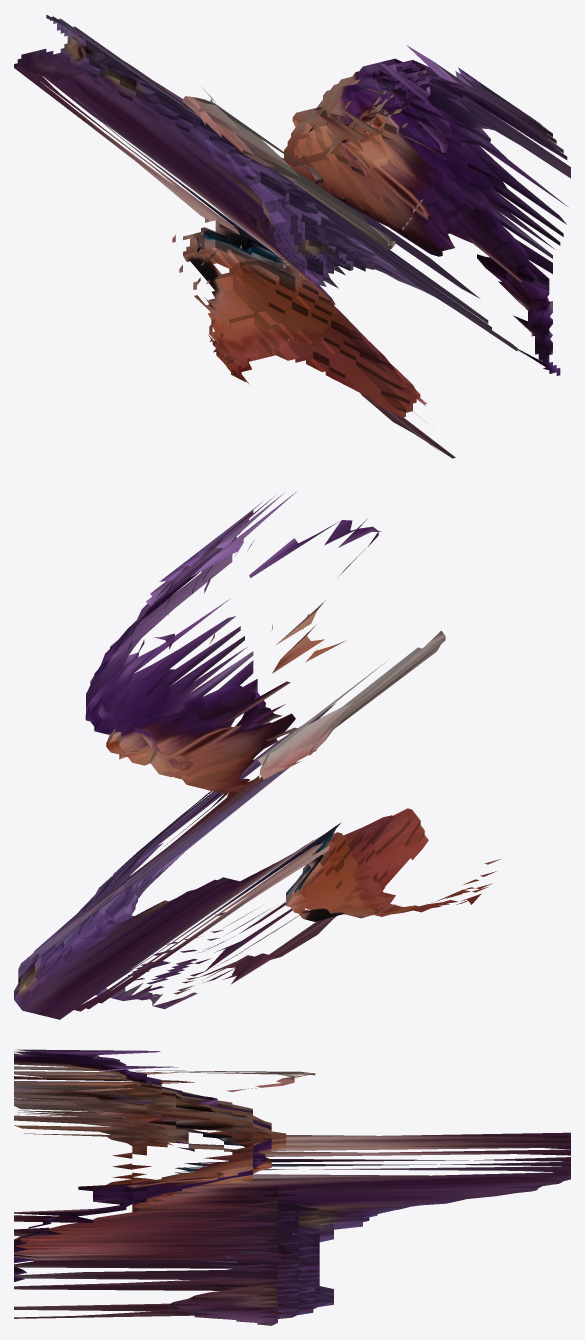
The model's file is frame_00001.glb.
The picture shows the model from 3 angles, top to bottom: view 1: azimuth 30°, elevation 25°; view 2: azimuth 150°, elevation 25°; view 3: azimuth 270°, elevation 25°; orthographic projection. The views are drawn at different scales.
Parts seen in each view (by area): view 1: geometry_0; view 2: geometry_0; view 3: geometry_0.
Part boxes in pixels (<box>): geometry_0: <box>14,14,570,458</box>; geometry_0: <box>14,490,500,1019</box>; geometry_0: <box>14,1049,570,1325</box>.
Bounding box in the file's own units: 0.0802 × 0.0873 × 0.16.
Materials: 1 (1 with a texture image).
